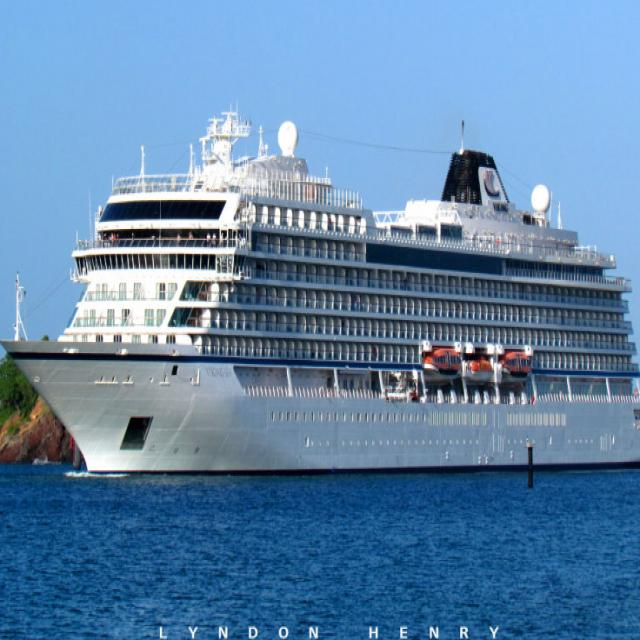cruises: (1, 96, 640, 489)
